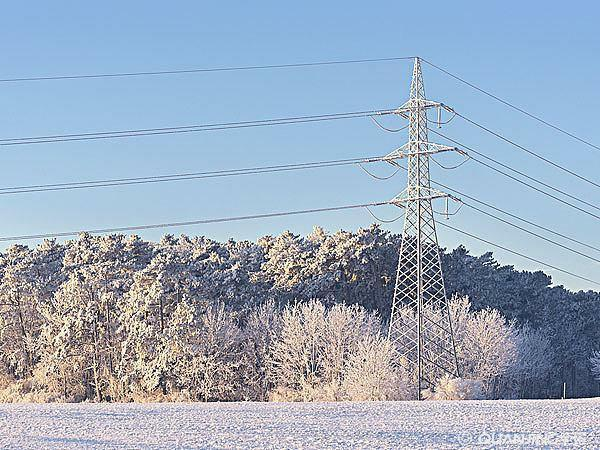power_tower: (377, 58, 464, 399)
